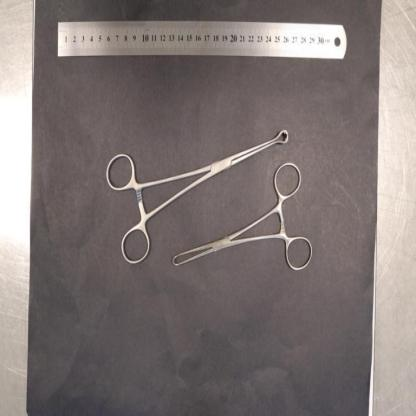8 Babcock Tissue Forceps: (104, 126, 290, 266)
Allis Tissue Forceps: (172, 156, 314, 274)
